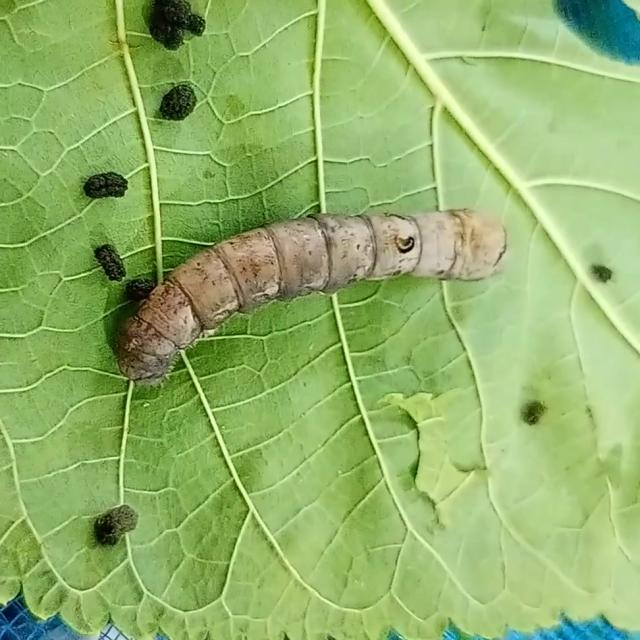Grasserie: (98, 175, 558, 412)
